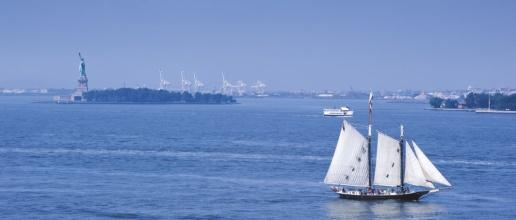fanchuan: (321, 96, 440, 201)
otherboat: (323, 104, 354, 116)
